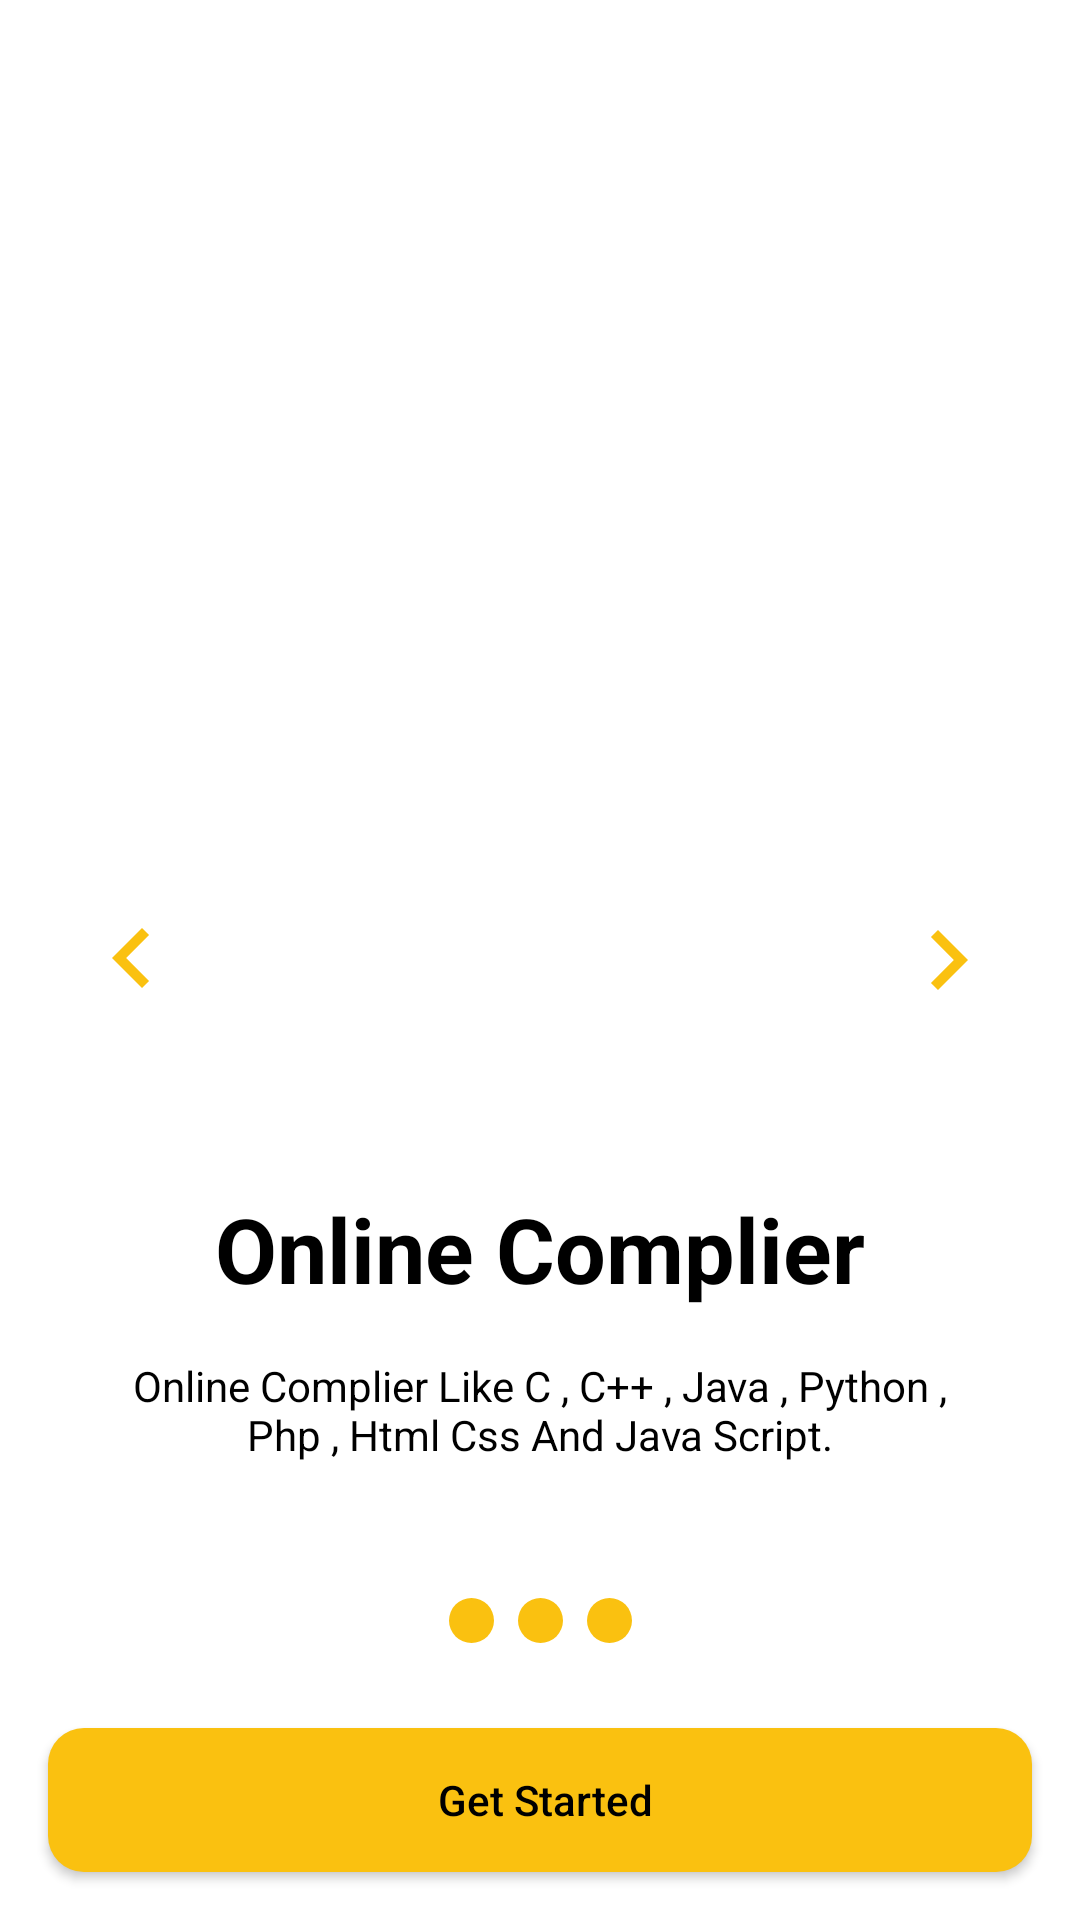

Icons on this 1080x1920 Android screen, each with the point to tap as point (x, y):
back: point (130, 958)
next: point (949, 960)
